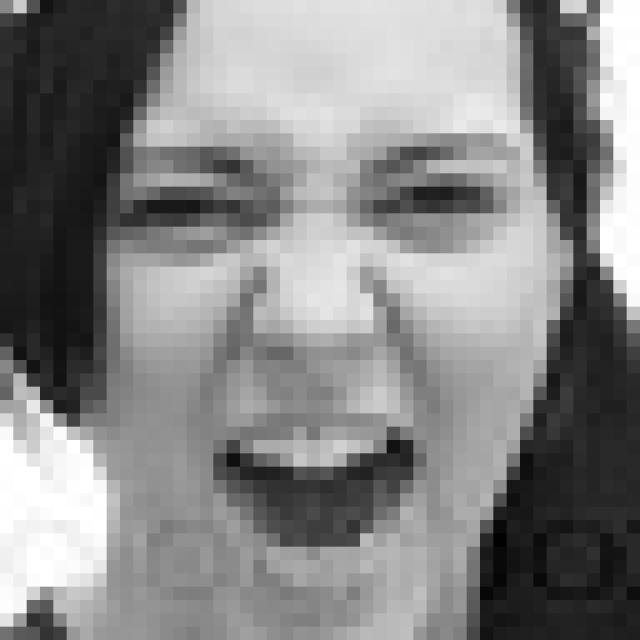angry: (113, 131, 526, 576)
